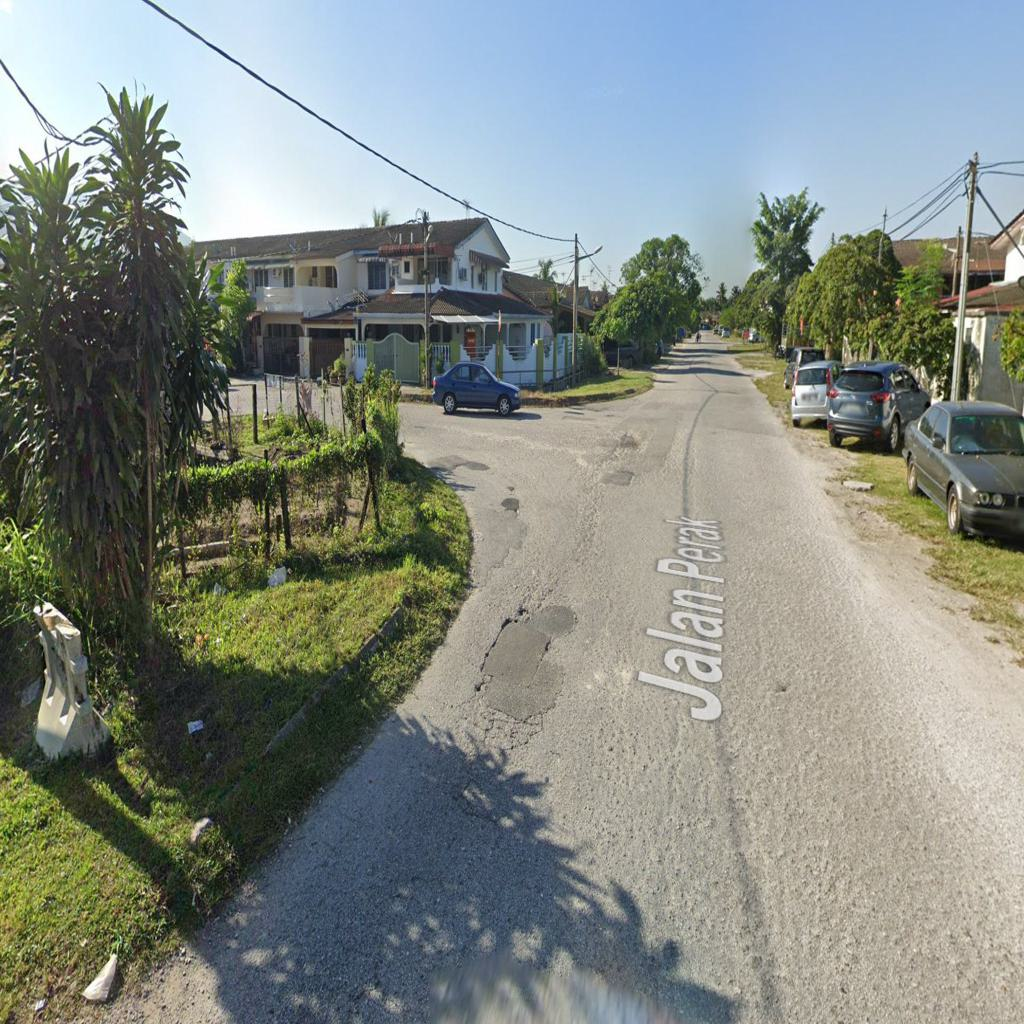Junction: (382, 357, 633, 599)
